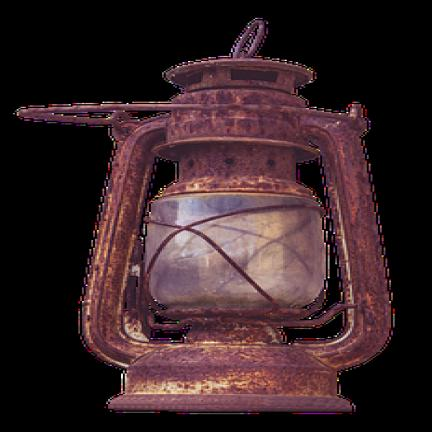karat: (156, 58, 315, 191), (82, 116, 166, 366), (110, 325, 350, 409), (19, 102, 352, 125)
